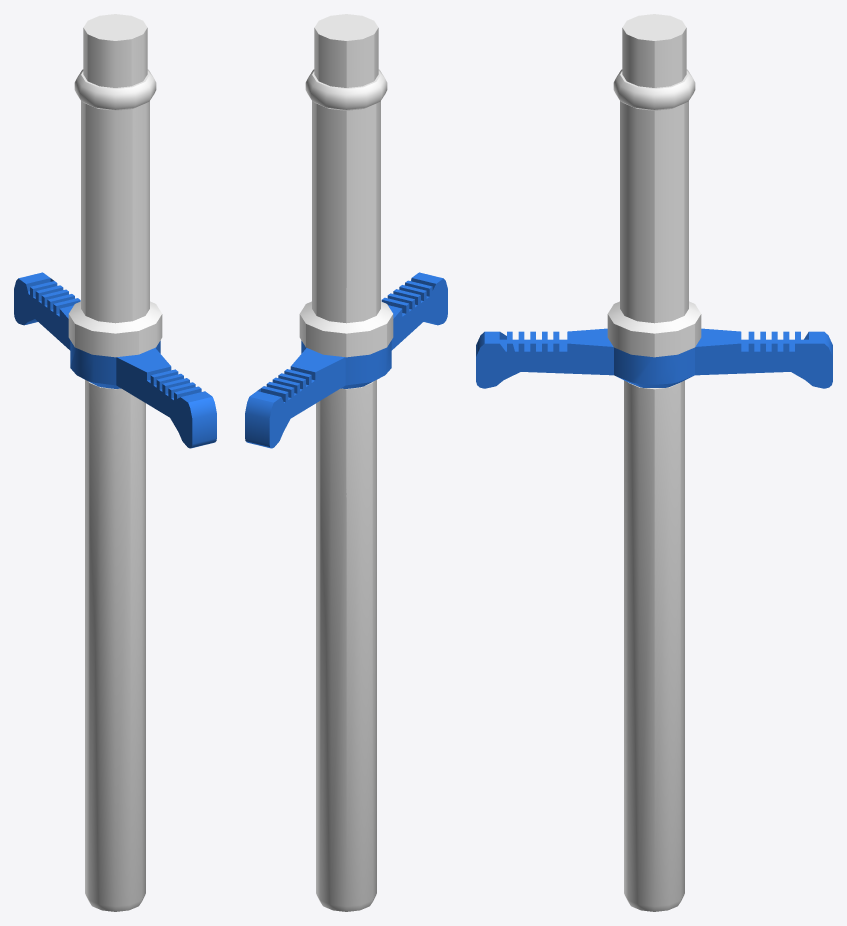
The model's file is introdutor e bisel 1.fbx.
3 renders of one model, left to right at view 1: azimuth 30°, elevation 25°; view 2: azimuth 150°, elevation 25°; view 3: azimuth 270°, elevation 25°, orthographic.
Parts seen in each view (by area): view 1: vidro baixo, vidro cima, azul, tampa; view 2: vidro baixo, vidro cima, azul, tampa; view 3: vidro baixo, vidro cima, azul, tampa.
Boxes of the visible parts, x1,y1,x2,y2 form: vidro baixo: (85, 380, 145, 911); vidro cima: (68, 69, 162, 357); azul: (14, 272, 216, 448); tampa: (83, 14, 147, 87); vidro baixo: (316, 380, 376, 911); vidro cima: (299, 69, 393, 357); azul: (245, 272, 447, 448); tampa: (314, 14, 378, 87); vidro baixo: (624, 380, 684, 911); vidro cima: (607, 69, 701, 357); azul: (476, 328, 832, 388); tampa: (622, 14, 686, 87).
Bounding box in the file's own units: 36.99 × 382 × 141.
